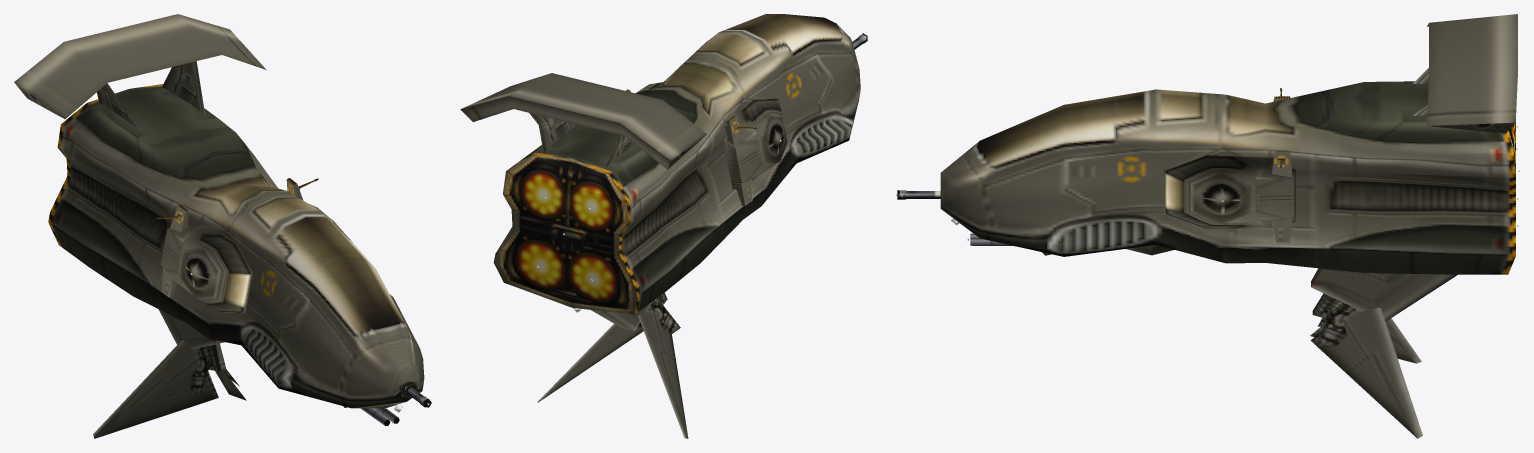
Rendered from bom05b.obj.
3 views of the same model, side by side, from view 1: azimuth 30°, elevation 25°; view 2: azimuth 150°, elevation 25°; view 3: azimuth 270°, elevation 25° (orthographic). The views are drawn at different scales.
Visible parts, largest first — view 1: frm-fuselg, frm-finzzz1, frm-turret1, frm-rlandgr, frm-lfinzzz, frm-landgr1, frm-rfinzzz, frm-LL1, frm-LLr; view 2: frm-fuselg, frm-finzzz1, frm-turret1, frm-rlandgr, frm-llandgr, frm-lfinzzz, frm-landgr1, frm-LLr; view 3: frm-fuselg, frm-finzzz1, frm-turret3, frm-llandgr, frm-landgr1, frm-LLl, frm-rlandgr.
Part boxes in pixels (x1,y1,x2,y2): frm-fuselg: (48, 84, 424, 408); frm-finzzz1: (14, 14, 266, 119); frm-turret1: (160, 221, 252, 313); frm-rlandgr: (93, 339, 218, 438); frm-lfinzzz: (162, 61, 204, 114); frm-landgr1: (159, 309, 224, 349); frm-rfinzzz: (97, 83, 140, 130); frm-LL1: (197, 343, 226, 371); frm-LLr: (190, 354, 210, 396); frm-fuselg: (493, 14, 860, 314); frm-finzzz1: (460, 73, 706, 169); frm-turret1: (723, 98, 787, 189); frm-rlandgr: (638, 308, 688, 438); frm-llandgr: (537, 323, 643, 402); frm-lfinzzz: (529, 113, 577, 152); frm-landgr1: (591, 301, 652, 331); frm-LLr: (650, 301, 680, 334); frm-fuselg: (940, 81, 1515, 274); frm-finzzz1: (1426, 14, 1517, 133); frm-turret3: (1163, 155, 1295, 228); frm-llandgr: (1310, 307, 1422, 438); frm-landgr1: (1311, 268, 1457, 321); frm-LLl: (1317, 310, 1350, 346); frm-rlandgr: (1310, 318, 1421, 363).
Bounding box in the file's own units: 3.32 × 5.23 × 8.23.
